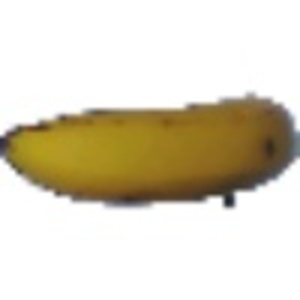banana: (2, 85, 297, 198)
